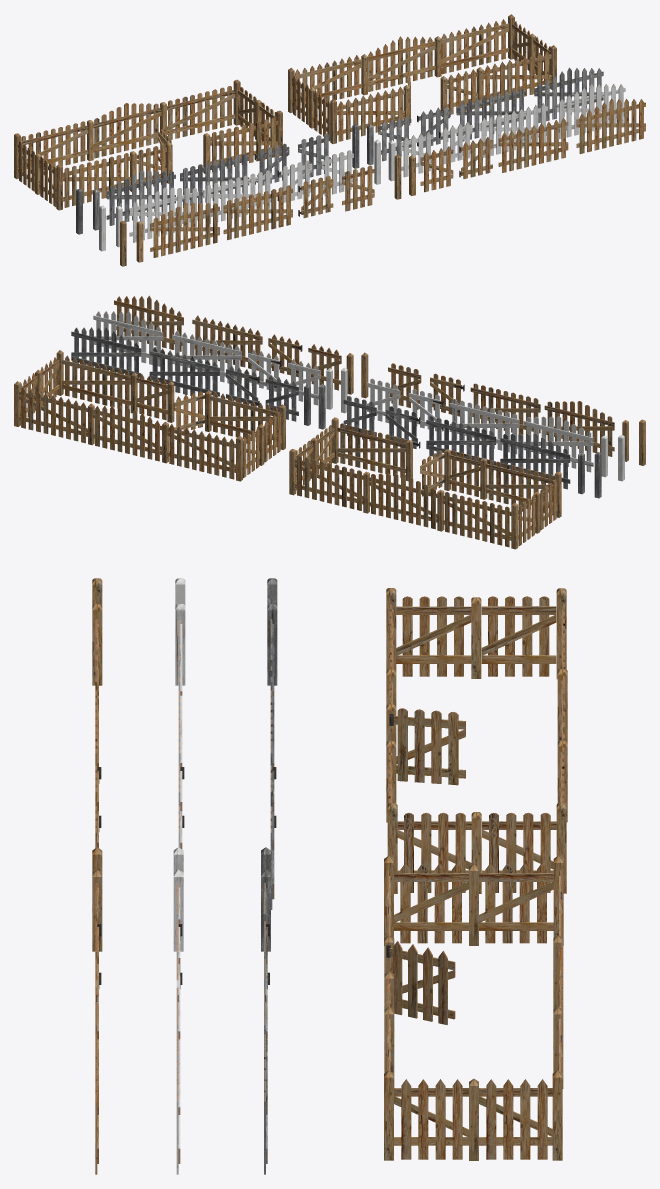
The model's file is Fences.fbx.
3 renders of one model, top to bottom at view 1: azimuth 30°, elevation 25°; view 2: azimuth 150°, elevation 25°; view 3: azimuth 270°, elevation 25°, orthographic. The views are drawn at different scales.
Parts seen in each view (by area): view 1: FenceStyle2High (×4), FenceStyle1High (×4), FenceStyle2Long (×4), FenceStyle1Long (×4), FenceStyle2Short (×4), FenceStyle1Short (×4), GateStyle2 (×3), GateStyle1 (×3), FenceStyle2Long3, FenceStyle1Long3, FenceStyle1Long4, FenceStyle2Long1 (+8 smaller); view 2: FenceStyle2High (×4), FenceStyle1High (×4), FenceStyle1Long (×4), FenceStyle2Long (×4), FenceStyle2Short (×4), GateStyle1 (×4), FenceStyle1Short (×4), GateStyle2 (×4), FenceStyle2Long3, FenceStyle2Long2, FenceStyle1Long2, FenceStyle2Long1 (+8 smaller); view 3: FenceStyle2Short2, FenceStyle2Short1, FenceStyle1Short2, FenceStyle1Short3, FenceStyle1Short, FenceStyle1Short1, GateStyle2, GateStyle1, FenceStyle2Short4, FenceStyle2Short3, PoleStyle1High2, PoleStyle11 (+1 smaller).
Boxes of the visible parts, x1,y1,x2,y2 form: FenceStyle2High (×4): (93, 103, 219, 257); FenceStyle1High (×4): (368, 36, 645, 153); FenceStyle2Long (×4): (63, 153, 292, 240); FenceStyle1Long (×4): (337, 86, 568, 172); FenceStyle2Short (×4): (136, 133, 374, 211); FenceStyle1Short (×4): (292, 75, 453, 192); GateStyle2 (×3): (257, 143, 333, 218); GateStyle1 (×3): (418, 105, 492, 178); FenceStyle2Long3: (167, 86, 235, 140); FenceStyle1Long3: (441, 19, 508, 74); FenceStyle1Long4: (483, 51, 551, 105); FenceStyle2Long1: (210, 117, 277, 172); FenceStyle2High (×4): (368, 401, 614, 529); FenceStyle1High (×4): (71, 295, 183, 461); FenceStyle1Long (×4): (149, 315, 278, 446); FenceStyle2Long (×4): (426, 383, 553, 515); FenceStyle2Short (×4): (343, 363, 480, 496); GateStyle1 (×4): (173, 334, 300, 430); FenceStyle1Short (×4): (243, 344, 341, 478); GateStyle2 (×4): (385, 373, 462, 496); FenceStyle2Long3: (294, 455, 363, 510); FenceStyle2Long2: (442, 492, 511, 547); FenceStyle1Long2: (167, 424, 235, 479); FenceStyle2Long1: (337, 423, 405, 477); FenceStyle2Short2: (481, 596, 556, 676); FenceStyle2Short1: (396, 596, 471, 676); FenceStyle1Short2: (394, 1079, 468, 1159); FenceStyle1Short3: (479, 1079, 552, 1159); FenceStyle1Short: (479, 863, 553, 943); FenceStyle1Short1: (394, 863, 468, 943); GateStyle2: (393, 708, 465, 785); GateStyle1: (389, 941, 455, 1024); FenceStyle2Short4: (397, 812, 471, 892); FenceStyle2Short3: (482, 812, 556, 892); PoleStyle1High2: (552, 1070, 562, 1160); PoleStyle11: (471, 597, 481, 678).
Bounding box in the file's own units: 1519 × 133 × 596.
Materials: 3 (3 with a texture image).
